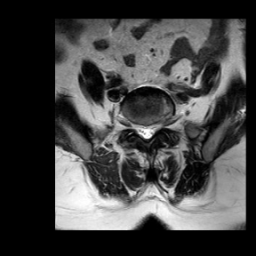CCS_normal: (143, 116, 149, 147)
LFS_normal: (155, 114, 162, 137)
LLS_normal: (149, 117, 155, 141)
RFS_normal: (129, 114, 137, 136)
RLS_normal: (137, 117, 143, 142)
